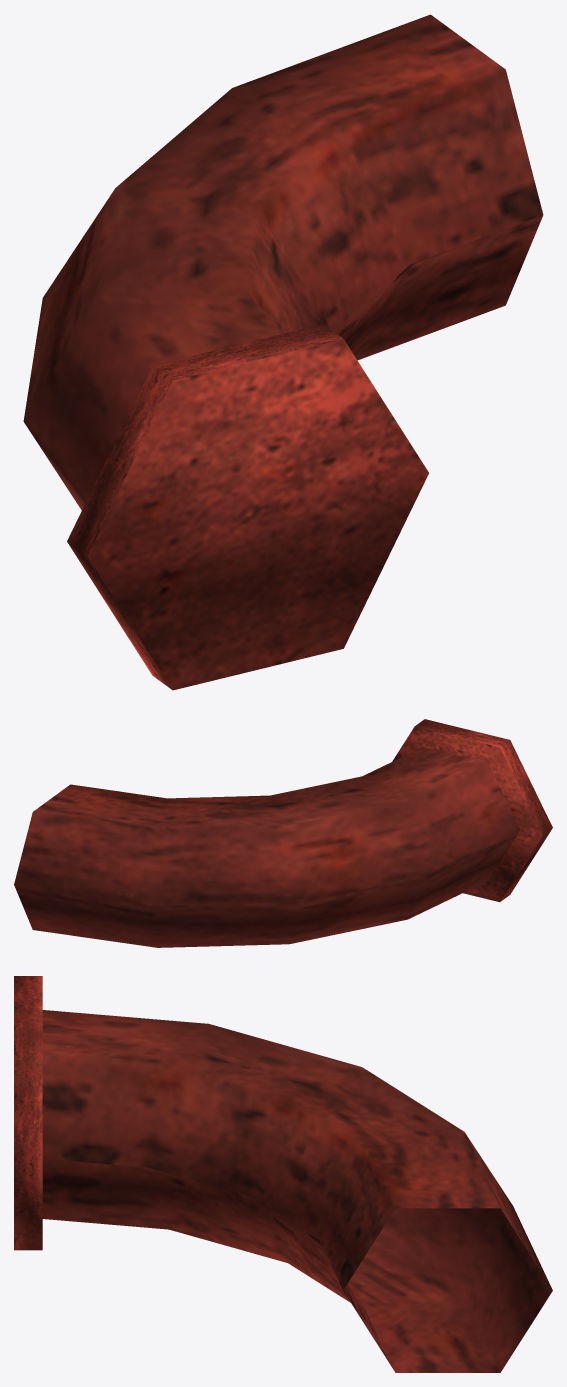
The model's file is small_red_4_elbow_hz.fbx.
3 renders of one model, top to bottom at view 1: azimuth 30°, elevation 25°; view 2: azimuth 150°, elevation 25°; view 3: azimuth 270°, elevation 25°, orthographic. The views are drawn at different scales.
Parts seen in each view (by area): view 1: polySurface639; view 2: polySurface639; view 3: polySurface639.
Part boxes in pixels (x1,y1,x2,y2): polySurface639: (23,14,543,690); polySurface639: (14,719,552,947); polySurface639: (14,976,552,1372).
Size of the model in its own units: 1.33 by 0.5683 by 1.28.
